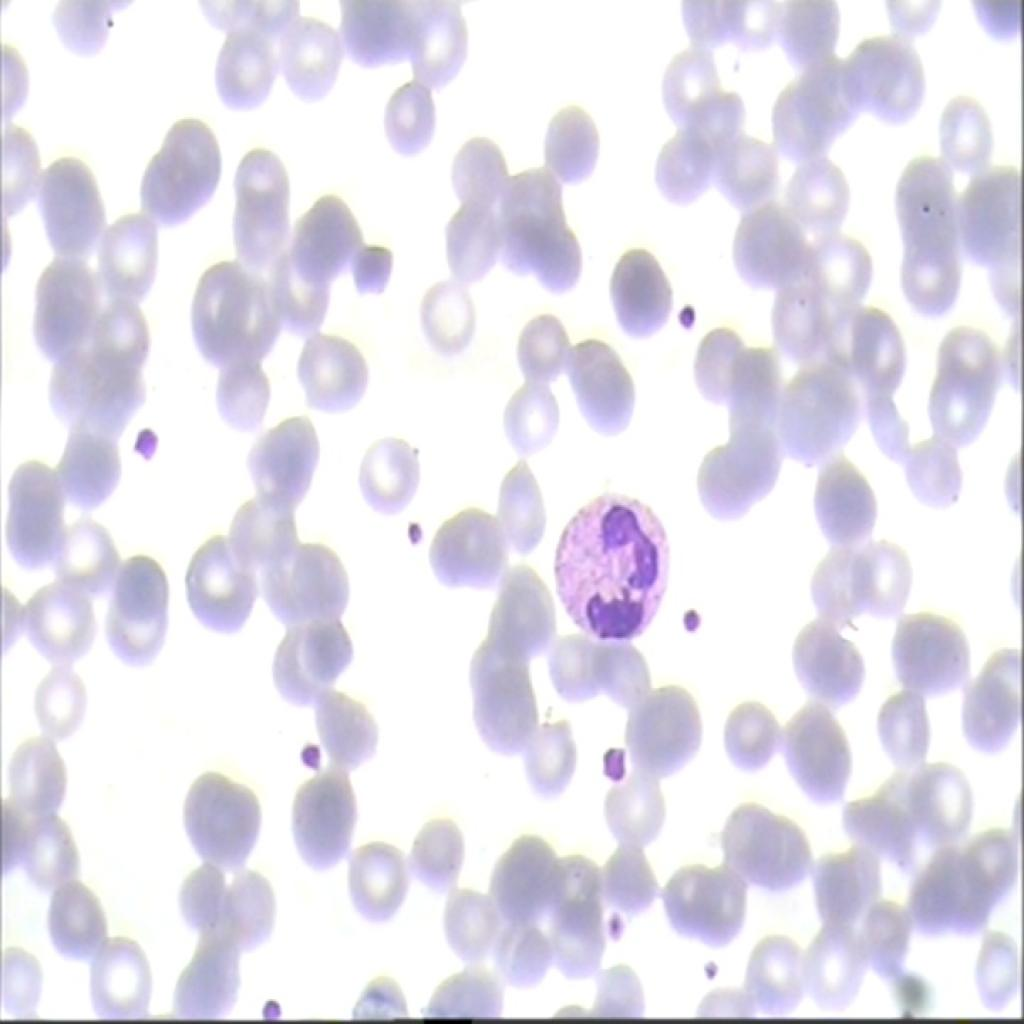Neutrofil: (555, 489, 670, 670)
Platelet: (594, 734, 632, 800), (594, 892, 626, 950), (693, 949, 728, 994), (670, 594, 707, 633), (124, 421, 159, 459), (256, 983, 286, 1022), (672, 300, 698, 340), (296, 734, 324, 766), (398, 510, 420, 546)
